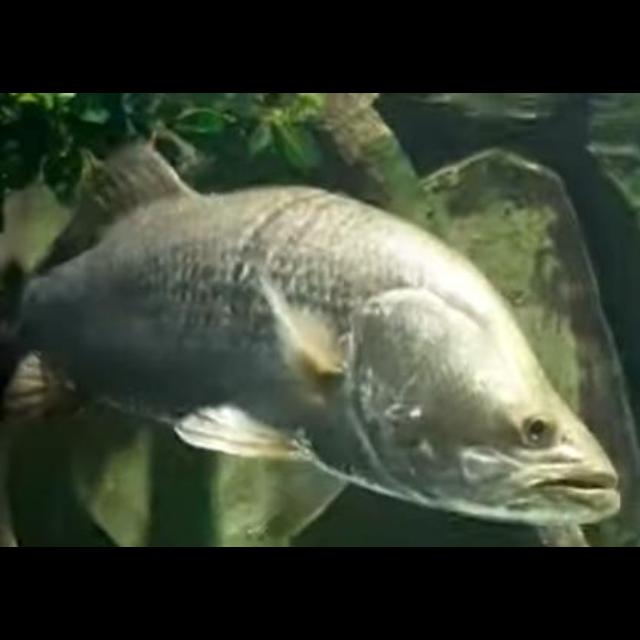Seabass: (0, 139, 622, 531)
